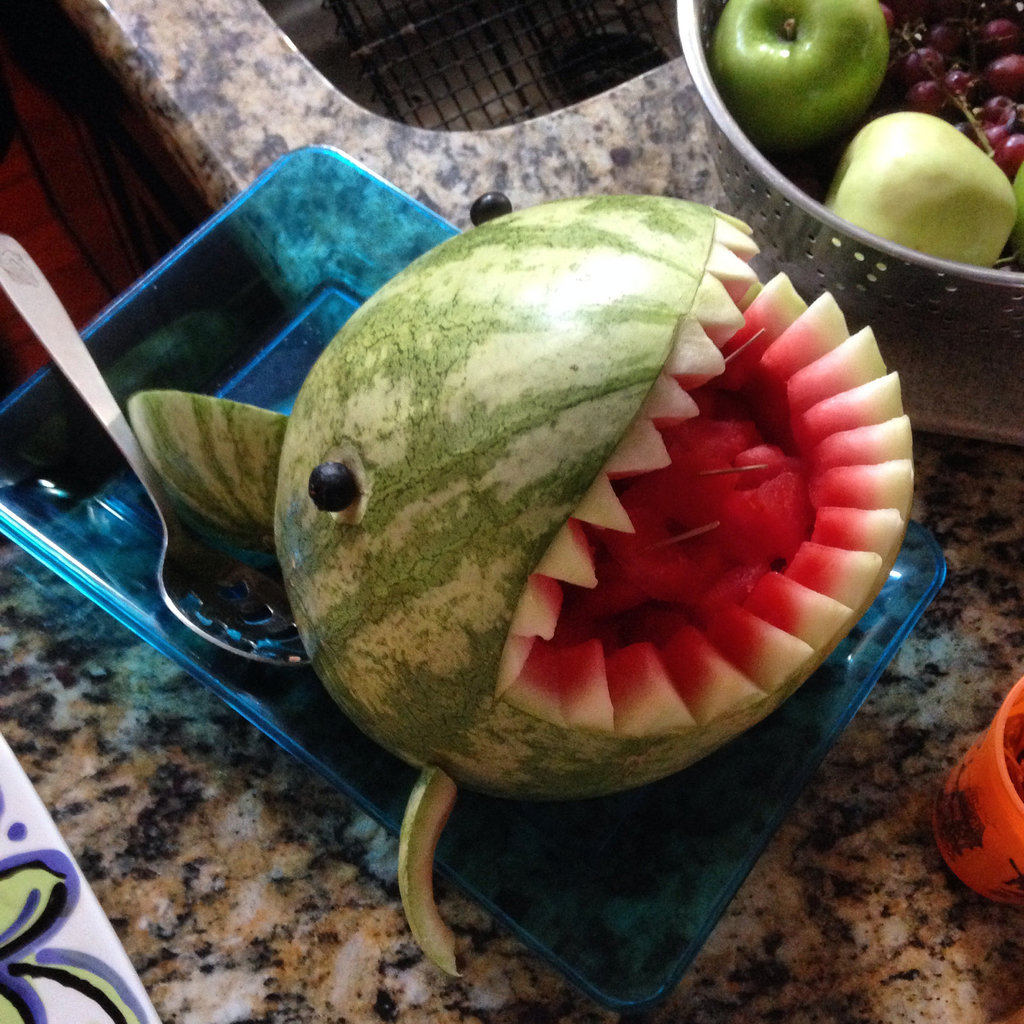Apple: (812, 104, 1023, 272), (718, 0, 903, 156)
